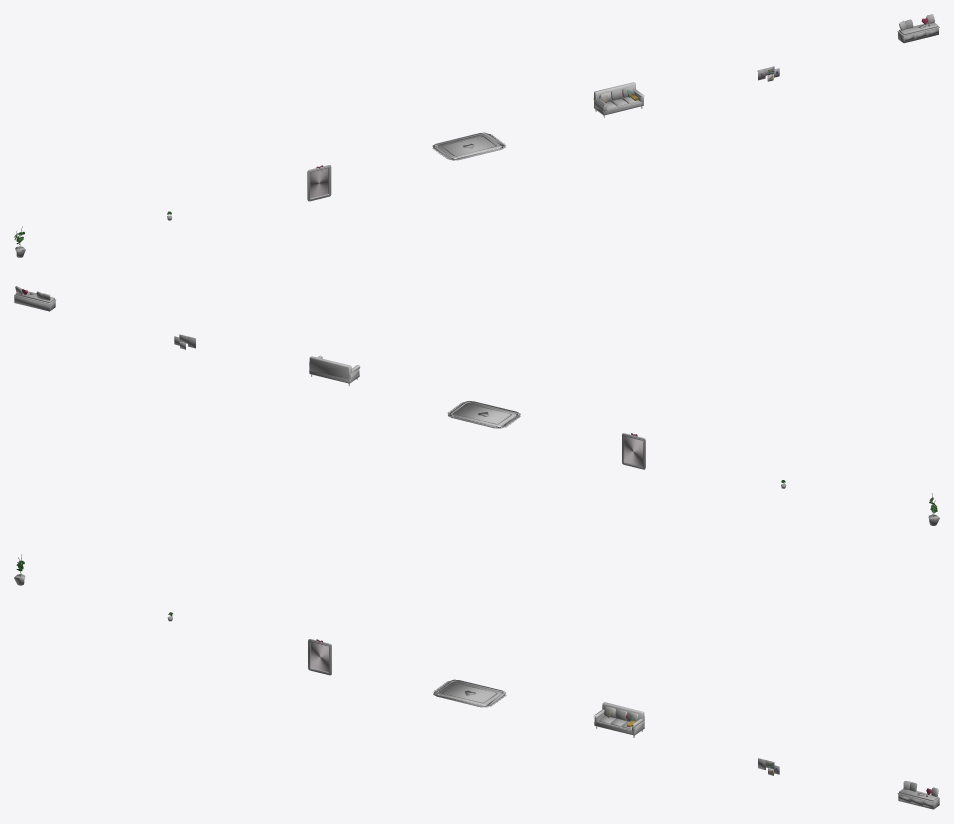
The model's file is bld_home_living2_lite.glb.
The picture shows the model from 3 angles, top to bottom: view 1: azimuth 30°, elevation 25°; view 2: azimuth 150°, elevation 25°; view 3: azimuth 330°, elevation 25°; orthographic projection.
Visible parts, largest first — view 1: INST_bld_home_living2_lite_rug_living_s_rug, INST_bld_home_living2_lite_sofa_s_fabric, INST_bld_home_living2_lite_rug_living_s_border; view 2: INST_bld_home_living2_lite_rug_living_s_rug, INST_bld_home_living2_lite_sofa_s_fabric, INST_bld_home_living2_lite_rug_living_s_border, INST_bld_home_living2_lite_profile_frame_s_fixed; view 3: INST_bld_home_living2_lite_rug_living_s_rug, INST_bld_home_living2_lite_sofa_s_fabric, INST_bld_home_living2_lite_rug_living_s_border.
Boxes of the visible parts, x1,y1,x2,y2 form: INST_bld_home_living2_lite_rug_living_s_rug: (432, 134, 505, 159); INST_bld_home_living2_lite_sofa_s_fabric: (593, 82, 644, 115); INST_bld_home_living2_lite_rug_living_s_border: (432, 132, 505, 160); INST_bld_home_living2_lite_rug_living_s_rug: (447, 402, 520, 427); INST_bld_home_living2_lite_sofa_s_fabric: (309, 355, 360, 383); INST_bld_home_living2_lite_rug_living_s_border: (448, 401, 520, 428); INST_bld_home_living2_lite_profile_frame_s_fixed: (624, 433, 642, 466); INST_bld_home_living2_lite_rug_living_s_rug: (433, 681, 506, 706); INST_bld_home_living2_lite_sofa_s_fabric: (593, 702, 644, 735); INST_bld_home_living2_lite_rug_living_s_border: (433, 679, 505, 707).
Size of the model in its own units: 49.24 by 2.37 by 2.1.
